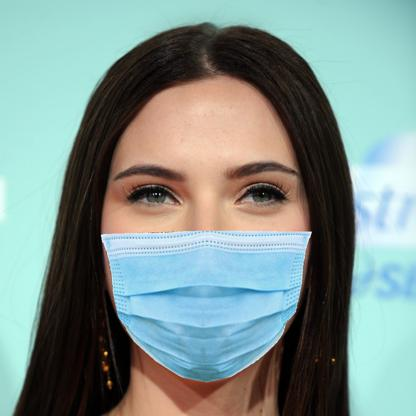mask: (94, 231, 304, 382)
